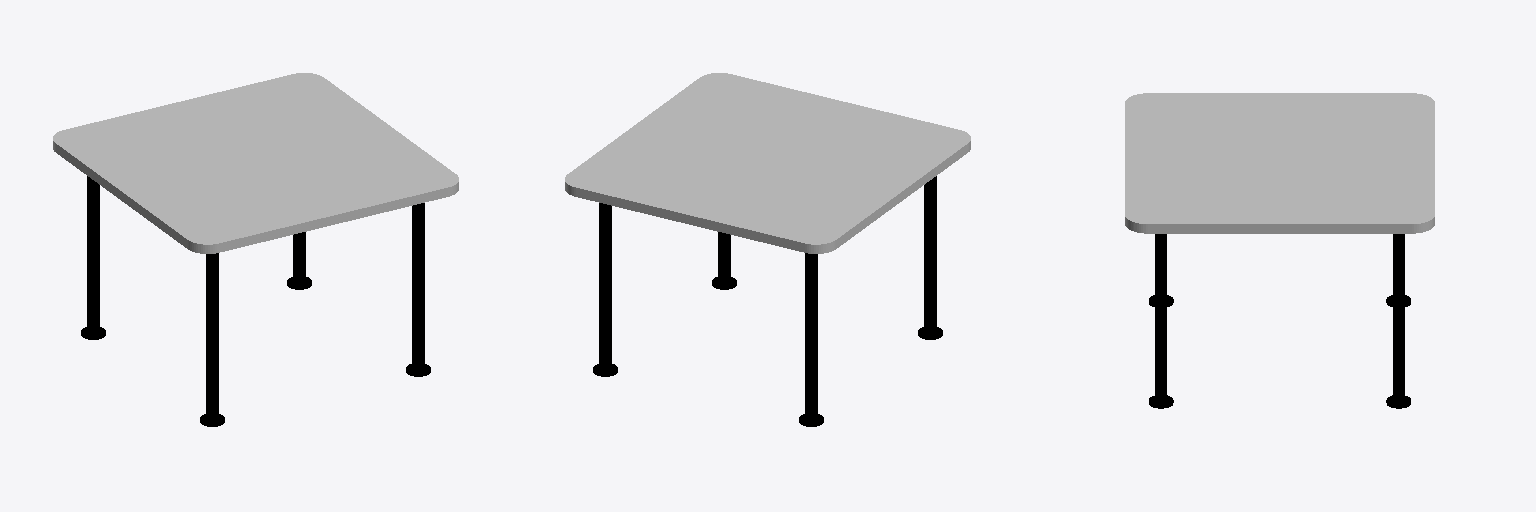
File: middletable.obj
The picture shows the model from 3 angles: view 1: azimuth 30°, elevation 25°; view 2: azimuth 150°, elevation 25°; view 3: azimuth 270°, elevation 25°; orthographic projection.
Parts seen in each view (by area): view 1: middletable_Material.020, middletable_Material.019; view 2: middletable_Material.020, middletable_Material.019; view 3: middletable_Material.020, middletable_Material.019.
Boxes of the visible parts, <box> form: middletable_Material.020: <box>53,73,458,253</box>; middletable_Material.019: <box>81,176,430,426</box>; middletable_Material.020: <box>565,73,970,253</box>; middletable_Material.019: <box>593,176,942,426</box>; middletable_Material.020: <box>1125,93,1434,233</box>; middletable_Material.019: <box>1149,234,1410,408</box>.
Bounding box in the file's own units: 60 × 41.5 × 60.